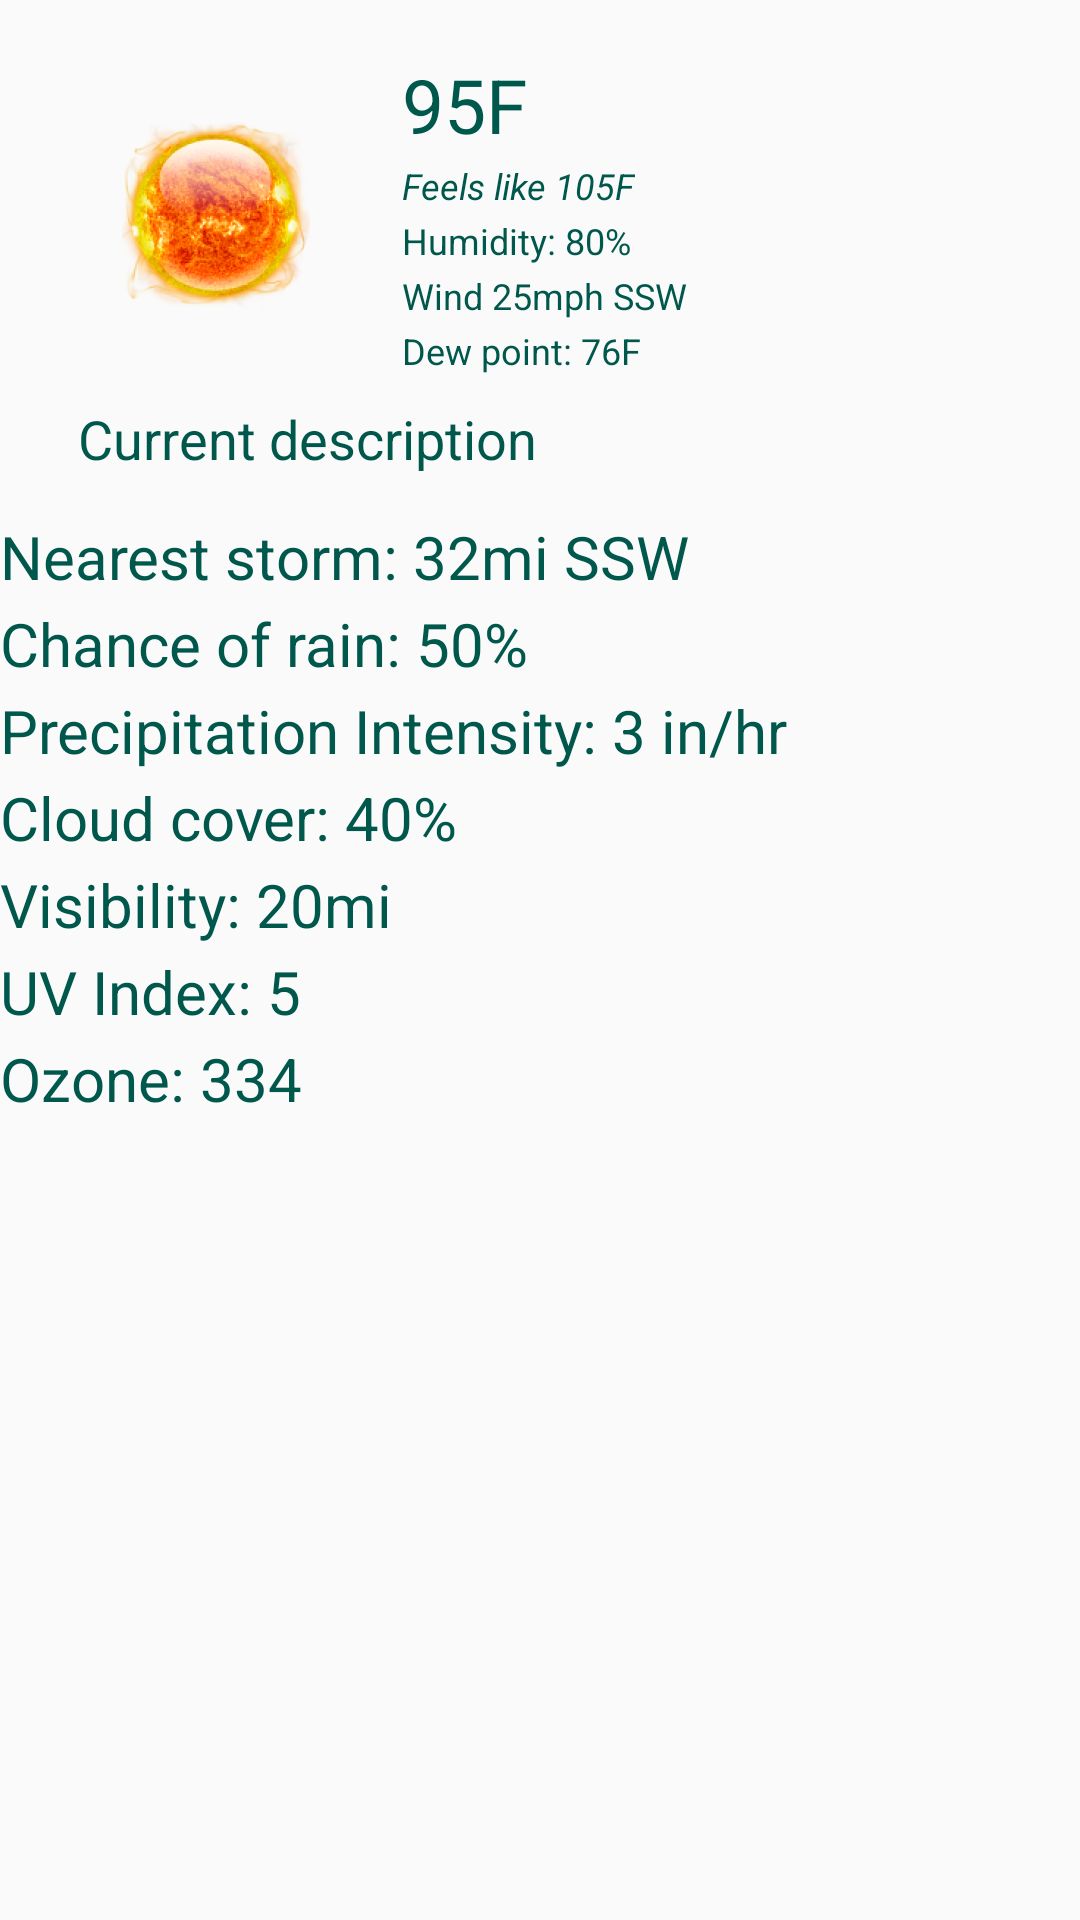

Icon bounding boxes for this 1080*1920 phone screenshot, format {"left": x1, "top": y1, "right": x2, "bottom": y2}:
hot: {"left": 123, "top": 125, "right": 308, "bottom": 304}
